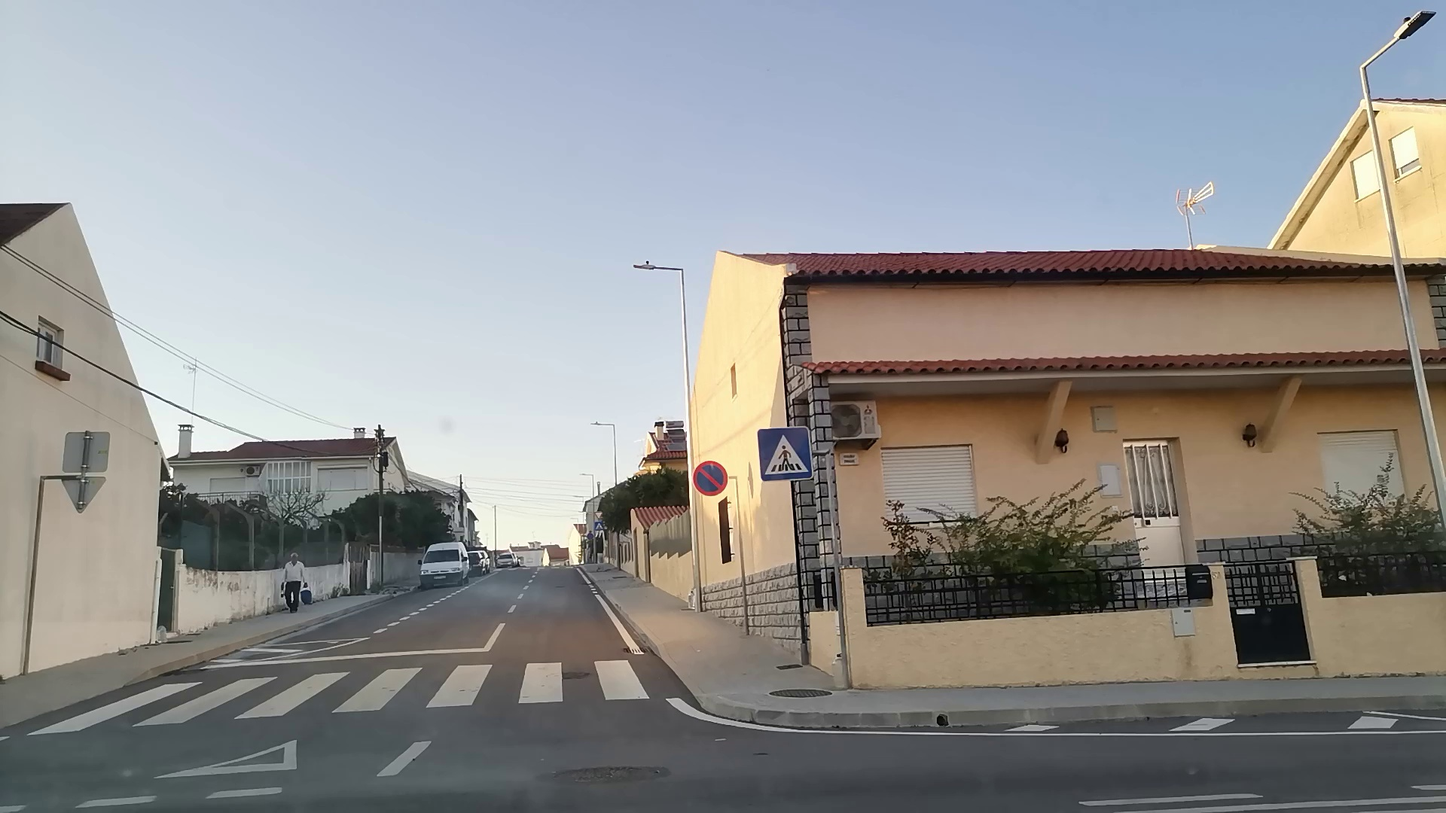Stairs: (118, 658, 657, 733)
